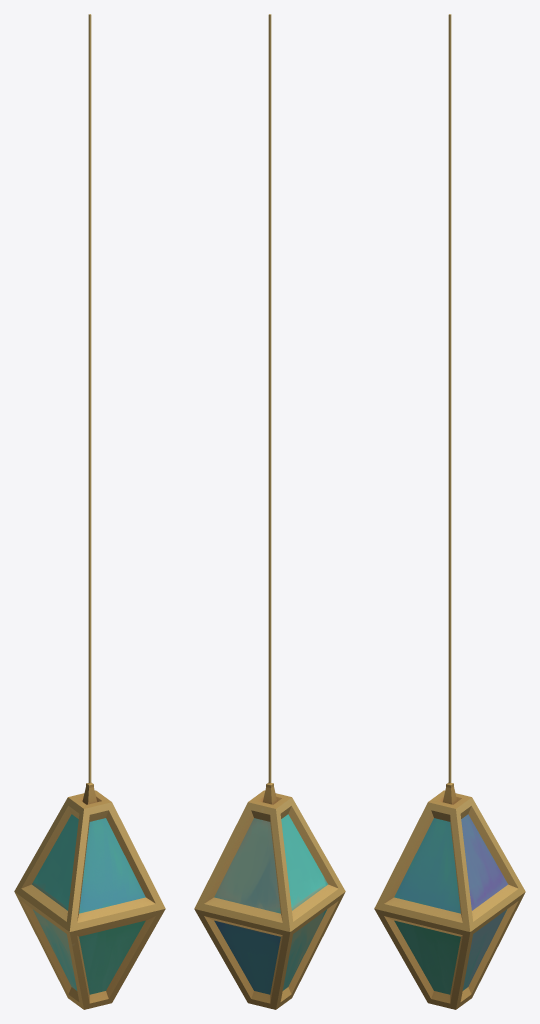
Rendered from Magic_Thing.fbx.
The picture shows the model from 3 angles, left to right: view 1: azimuth 30°, elevation 25°; view 2: azimuth 150°, elevation 25°; view 3: azimuth 330°, elevation 25°; orthographic projection.
Parts seen in each view (by area): view 1: Cube.068; view 2: Cube.068; view 3: Cube.068.
Part boxes in pixels (box(x1,y1,x2,y2)): Cube.068: box(14, 14, 165, 1009); Cube.068: box(194, 14, 345, 1009); Cube.068: box(374, 14, 525, 1009).
Bounding box in the file's own units: 20.09 × 197 × 20.09.
